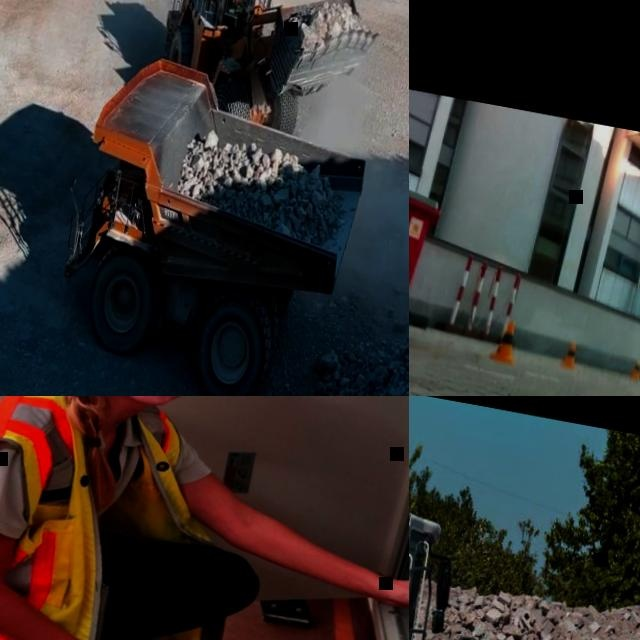NO-Mask: (95, 396, 188, 408)
Person: (0, 396, 409, 640)
Safety Cone: (490, 318, 523, 362), (562, 340, 581, 367), (631, 358, 640, 379)
Safety Vest: (0, 396, 266, 640)
machinery: (35, 40, 384, 396), (145, 0, 393, 167), (409, 465, 640, 640)
